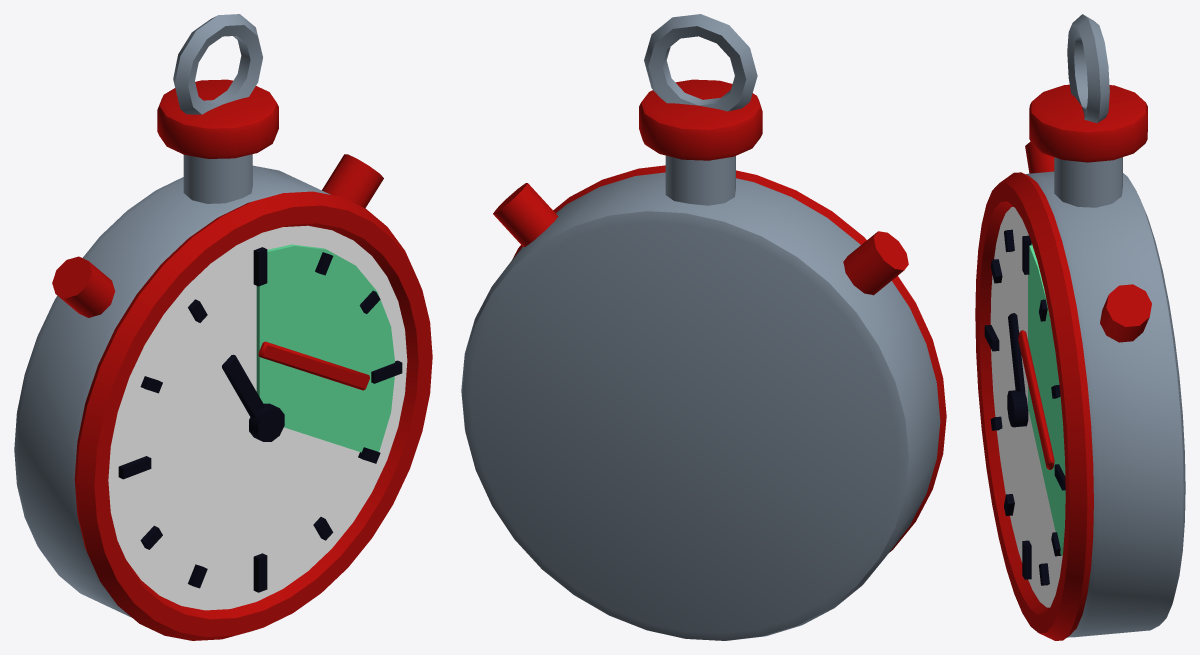
File: Stopwatch.fbx
3 views of the same model, side by side, from view 1: azimuth 30°, elevation 25°; view 2: azimuth 150°, elevation 25°; view 3: azimuth 270°, elevation 25° (orthographic). The views are drawn at different scales.
Visible parts, largest first — view 1: Stopwatch; view 2: Stopwatch; view 3: Stopwatch.
Boxes of the visible parts, left/top/right/bottom form: Stopwatch: left=14, top=14, right=432, bottom=640; Stopwatch: left=461, top=14, right=946, bottom=640; Stopwatch: left=975, top=14, right=1185, bottom=640.
Size of the model in its own units: 2.05 by 2.82 by 0.9001.
